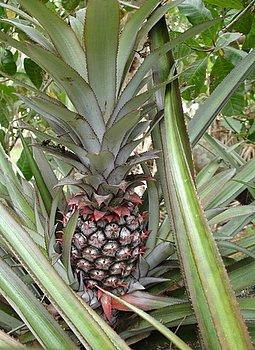pineapple: (0, 0, 219, 293)
